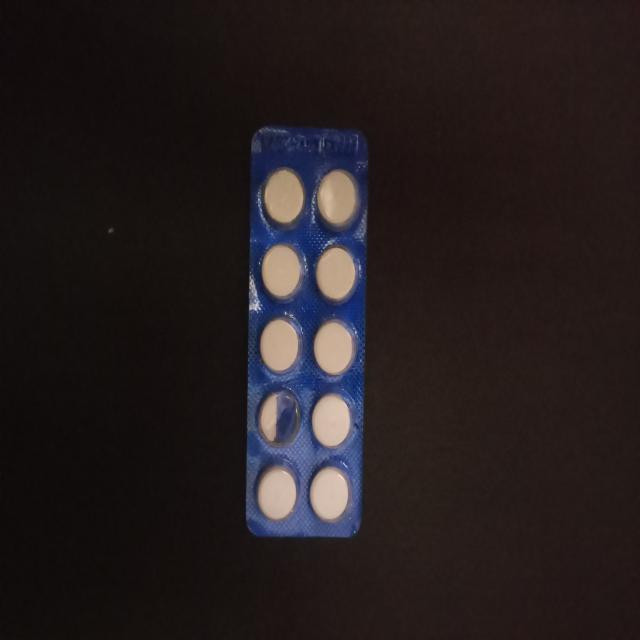defect: (254, 386, 303, 450)
